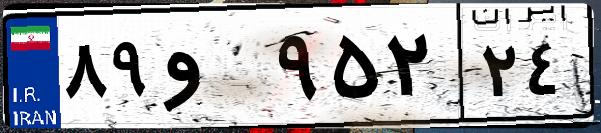2: (385, 28, 445, 110), (475, 38, 525, 113)
4: (525, 38, 570, 115)
5: (330, 28, 385, 110)
8: (57, 26, 110, 100)
9: (270, 28, 330, 110), (110, 28, 158, 98)
و: (158, 20, 270, 120)
